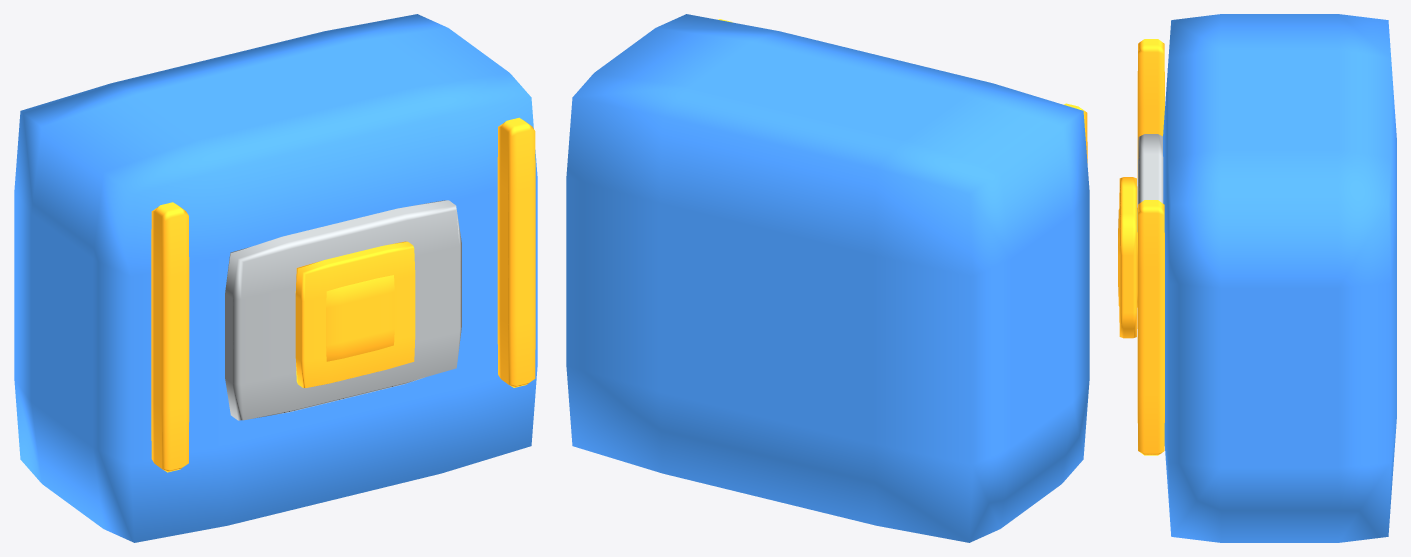
Rendered from guardian-star.glb.
3 views of the same model, side by side, from view 1: azimuth 30°, elevation 25°; view 2: azimuth 150°, elevation 25°; view 3: azimuth 270°, elevation 25° (orthographic). The views are drawn at different scales.
Parts seen in each view (by area): view 1: Torso, Panel, StripeR, StripeL, Star, Core; view 2: Torso; view 3: Torso, StripeR, Star, StripeL, Panel.
Boxes of the visible parts, box(x1,y1,x2,y2) form: Torso: box(14, 14, 537, 542); Panel: box(225, 200, 461, 420); StripeR: box(497, 117, 535, 387); StripeL: box(151, 202, 189, 472); Star: box(295, 241, 415, 387); Core: box(326, 275, 394, 361); Torso: box(566, 14, 1089, 542); Torso: box(1163, 14, 1396, 542); StripeR: box(1137, 200, 1164, 455); Star: box(1119, 177, 1137, 338); StripeL: box(1137, 39, 1164, 178); Panel: box(1137, 134, 1163, 231).
Size of the model in its own units: 2.05 by 1.72 by 1.22.
